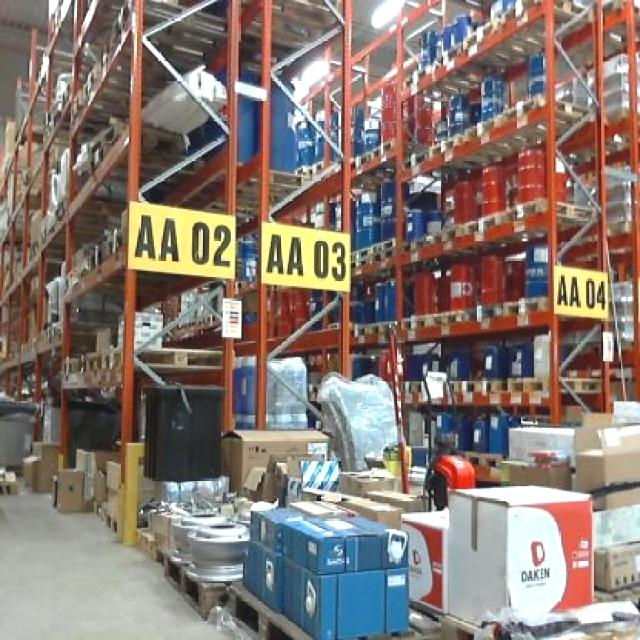pallets: (243, 506, 405, 637), (446, 485, 589, 620)
